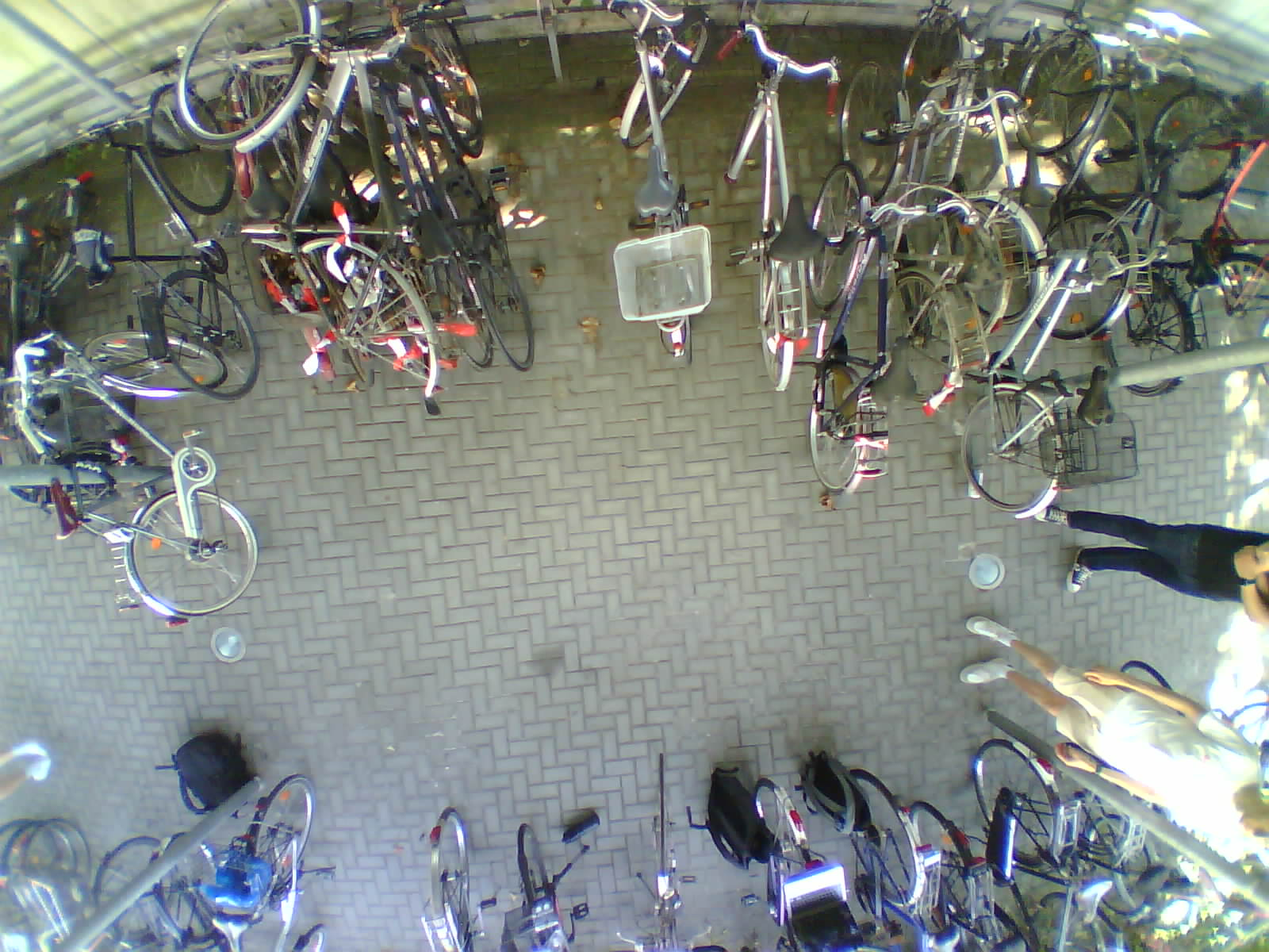bicylce: (401, 0, 534, 373), (86, 330, 253, 620), (892, 11, 1040, 328), (1010, 11, 1143, 356), (945, 189, 1082, 517), (604, 0, 714, 377), (1083, 90, 1211, 405), (126, 88, 255, 397), (727, 15, 825, 397), (812, 159, 913, 502), (217, 768, 328, 952)
saddle: (759, 195, 827, 264), (624, 142, 682, 214), (1072, 362, 1123, 429), (875, 334, 922, 403), (1147, 144, 1194, 212), (1010, 150, 1055, 206), (49, 470, 83, 544), (1179, 238, 1226, 289), (81, 232, 120, 289), (416, 210, 458, 256), (206, 913, 253, 952), (1073, 876, 1110, 921)
